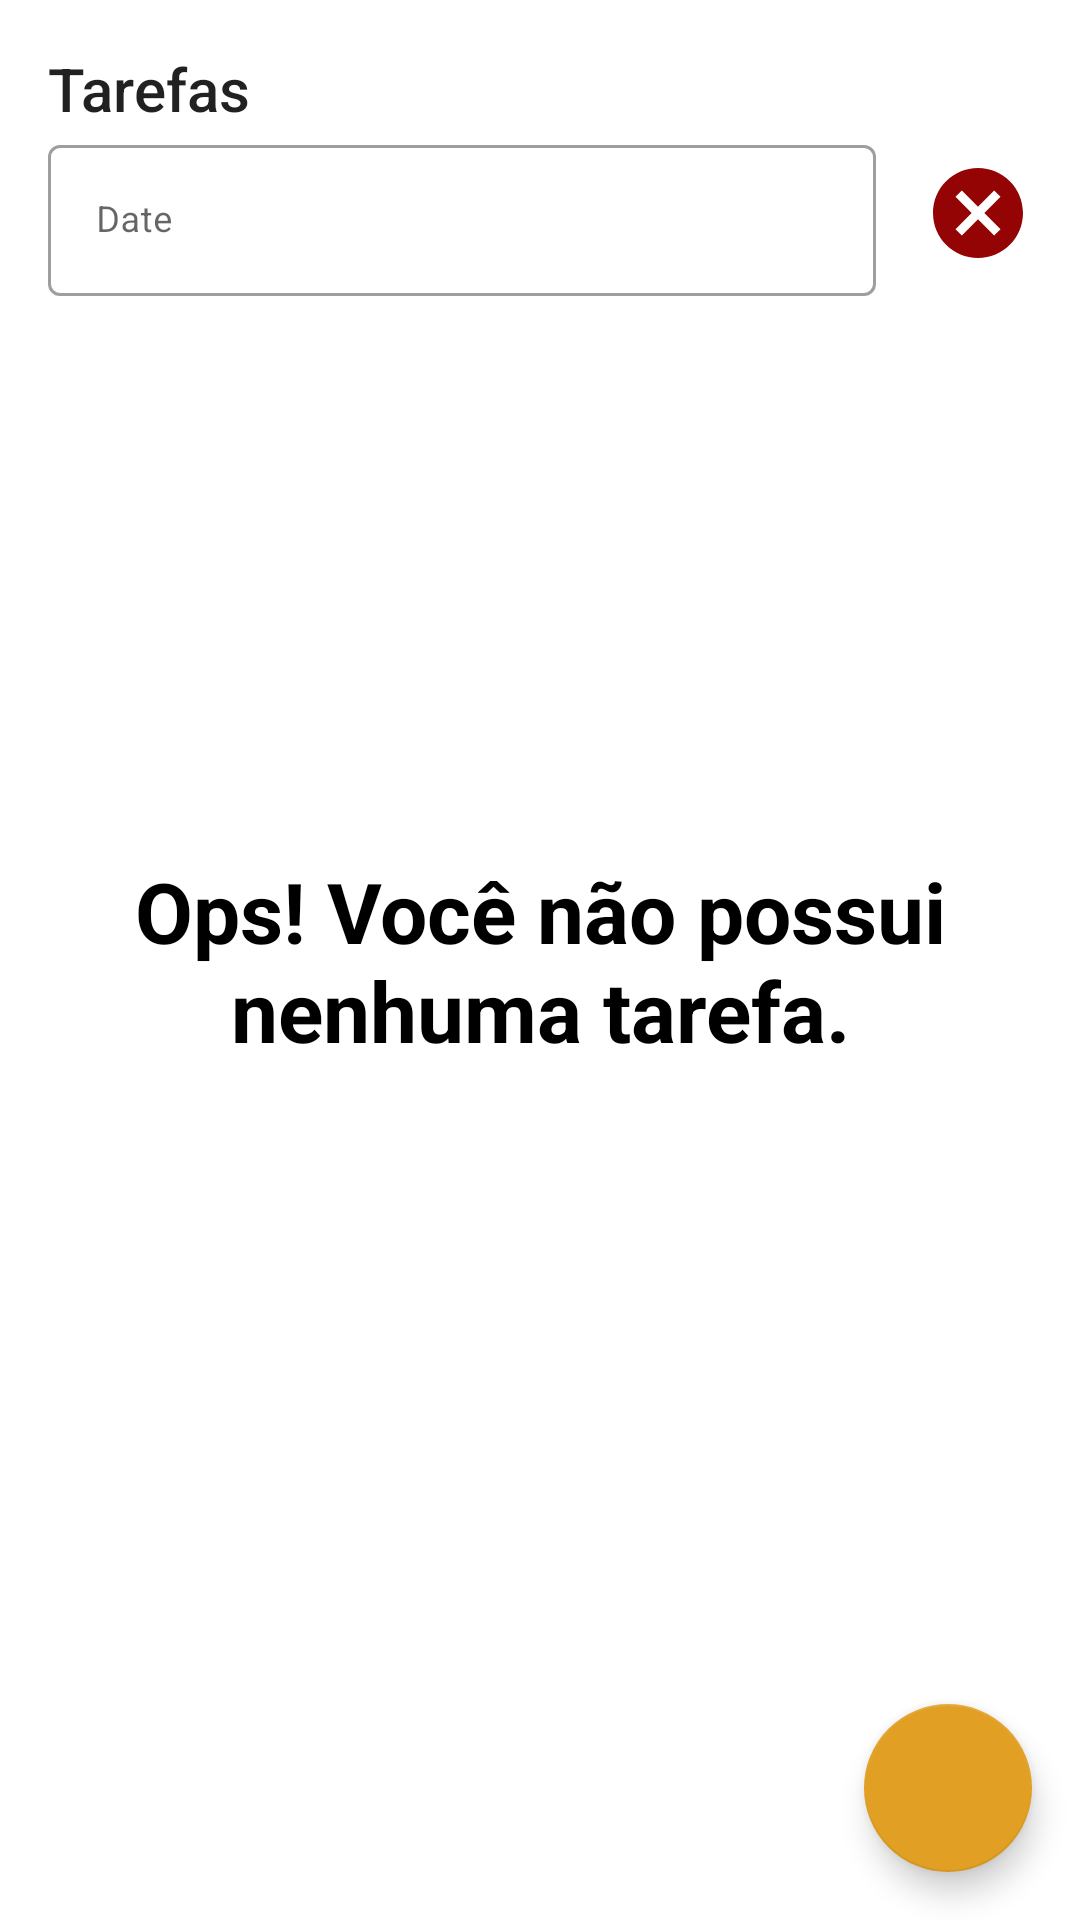

Named icons in this screenshot (1080x1920) and their bounding boxes, (x1, y1, x2, y2):
cancel: (933, 168, 1023, 258)
